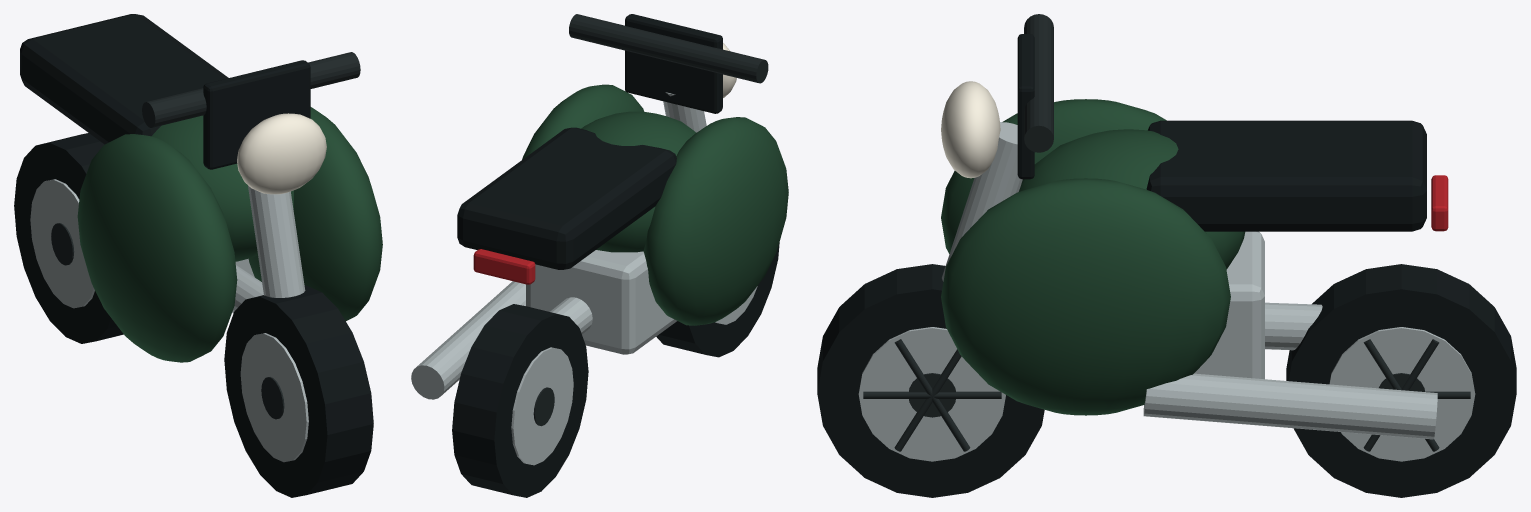
Rendered from better.glb.
3 renders of one model, left to right at view 1: azimuth 30°, elevation 25°; view 2: azimuth 150°, elevation 25°; view 3: azimuth 270°, elevation 25°, orthographic. The views are drawn at different scales.
Parts seen in each view (by area): view 1: Saddle, Fuel tank, Engine, Headlight, Handlebar; view 2: Saddle, Fuel tank, Engine, Handlebar, Rear light; view 3: Saddle, Fuel tank, Engine, Handlebar, Headlight, Rear light.
Boxes of the visible parts, box(x1,y1,x2,y2) form: Saddle: box(14, 14, 373, 497); Fuel tank: box(77, 107, 382, 362); Engine: box(30, 179, 308, 462); Headlight: box(237, 113, 326, 194); Handlebar: box(51, 52, 360, 419); Saddle: box(452, 14, 779, 497); Fuel tank: box(522, 84, 788, 325); Engine: box(411, 92, 757, 465); Handlebar: box(533, 14, 768, 426); Rear light: box(473, 249, 535, 284); Saddle: box(817, 34, 1516, 497); Fuel tank: box(941, 99, 1245, 415); Engine: box(858, 122, 1475, 461); Handlebar: box(863, 14, 1470, 451); Headlight: box(941, 81, 1000, 178); Rear light: box(1431, 175, 1448, 231).
Size of the model in its own units: 0.4114 by 0.6286 by 0.9371.
